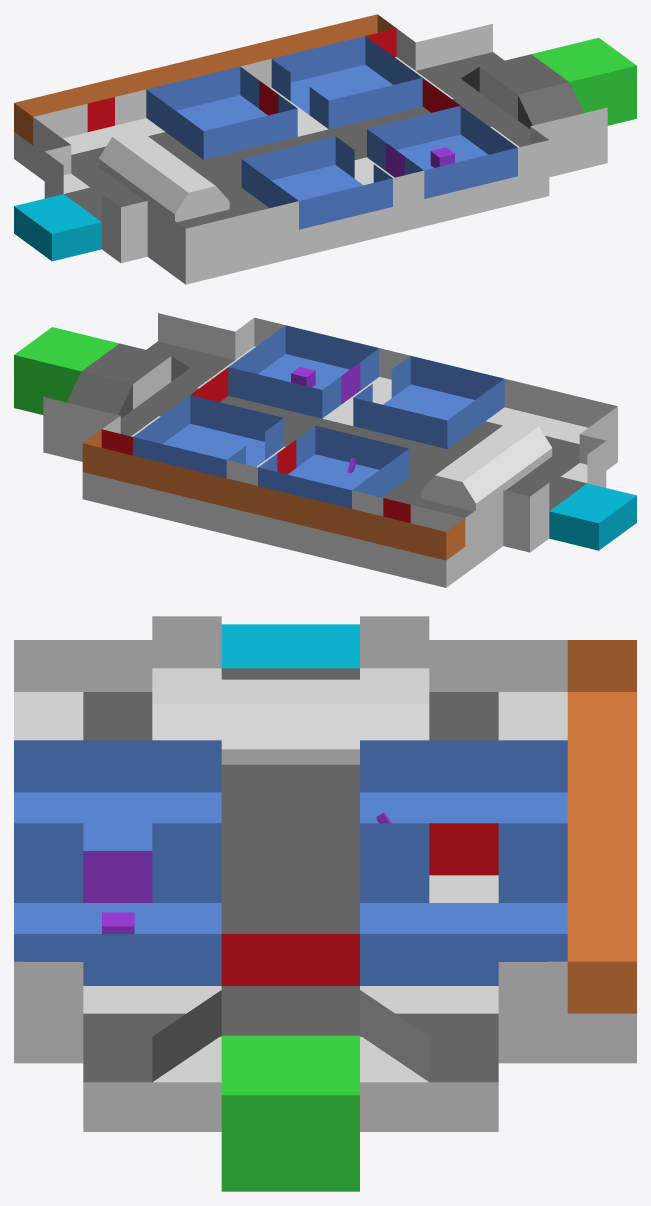
File: level3.fbx
The picture shows the model from 3 angles, top to bottom: view 1: azimuth 30°, elevation 25°; view 2: azimuth 150°, elevation 25°; view 3: azimuth 270°, elevation 25°; orthographic projection. The views are drawn at different scales.
Visible parts, largest first — view 1: Cube; view 2: Cube; view 3: Cube.
Part boxes in pixels (bbox=[...]): Cube: bbox=[14, 14, 636, 284]; Cube: bbox=[14, 313, 636, 587]; Cube: bbox=[14, 616, 636, 1191].
Size of the model in its own units: 1371 by 126 by 697.
